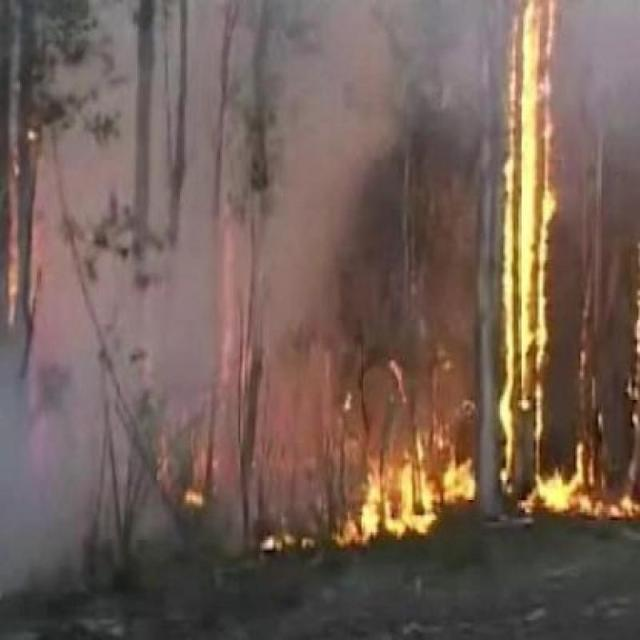Fire: (425, 0, 640, 557)
Smoke: (0, 0, 392, 582)
